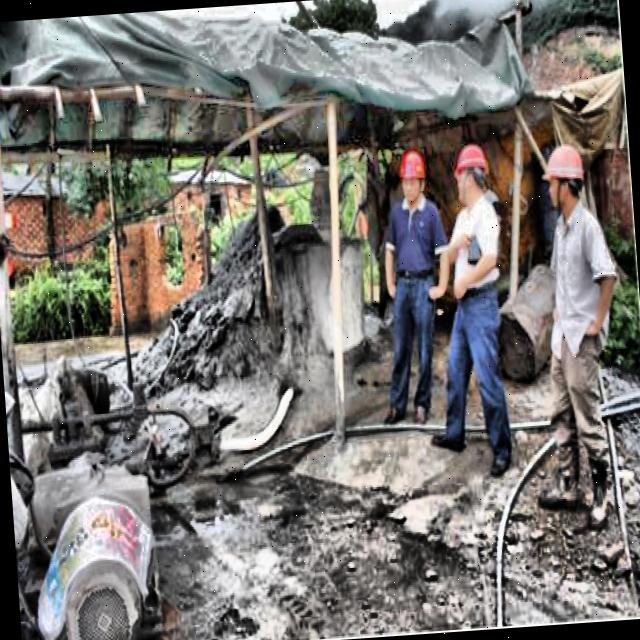helmet: (542, 135, 590, 222), (450, 140, 491, 203), (396, 144, 431, 205)
